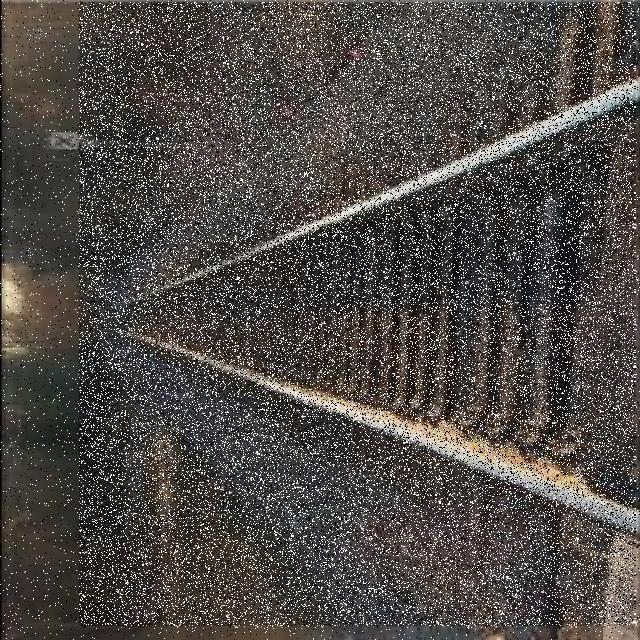rail: (81, 4, 636, 627)
